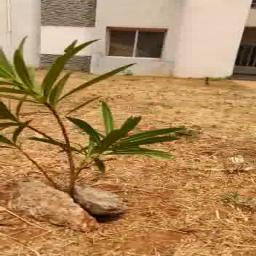OLEANDER: (0, 34, 180, 172)
